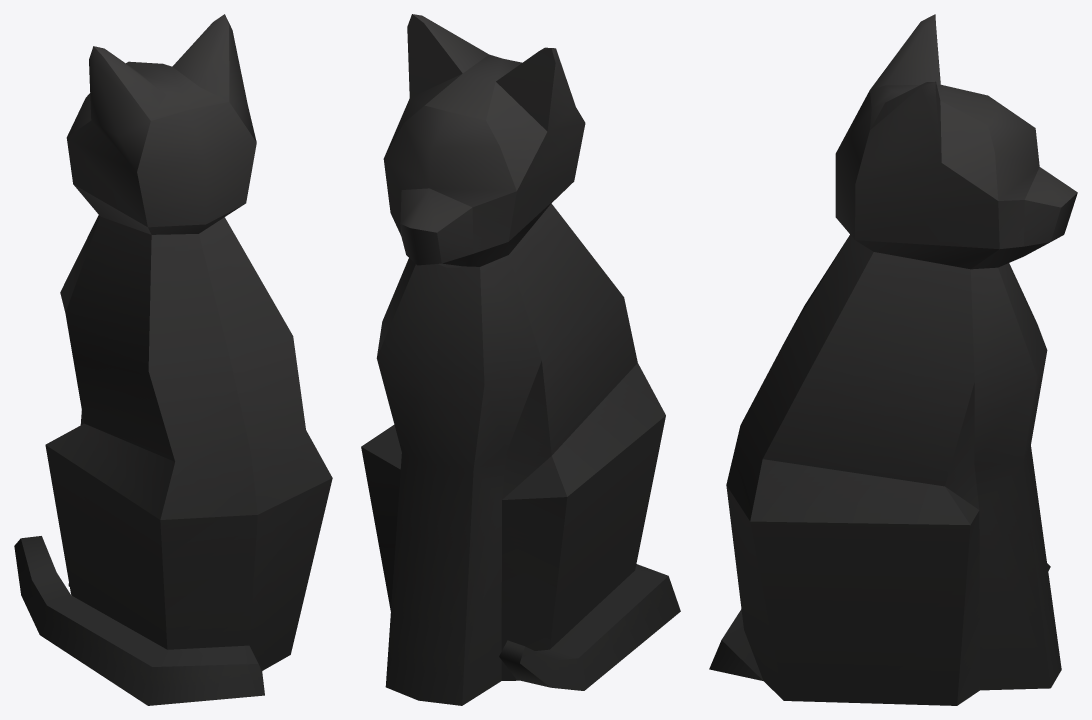
Rendered from Catfigurine_Black.fbx.
3 views of the same model, side by side, from view 1: azimuth 30°, elevation 25°; view 2: azimuth 150°, elevation 25°; view 3: azimuth 270°, elevation 25° (orthographic). The views are drawn at different scales.
Parts seen in each view (by area): view 1: Catfigurine_Black; view 2: Catfigurine_Black; view 3: Catfigurine_Black.
Boxes of the visible parts, x1,y1,x2,y2 form: Catfigurine_Black: [14, 14, 332, 705]; Catfigurine_Black: [361, 14, 680, 705]; Catfigurine_Black: [709, 14, 1077, 705].
Size of the model in its own units: 7.68 by 21.01 by 11.3.
